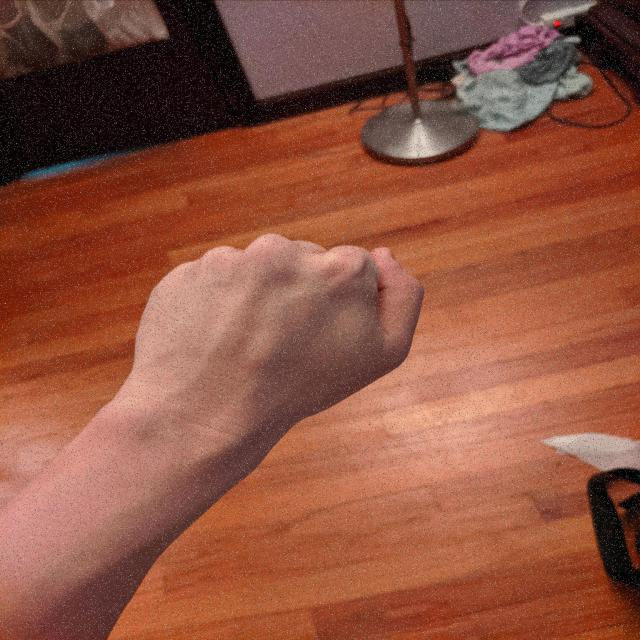A: (125, 230, 429, 430)
